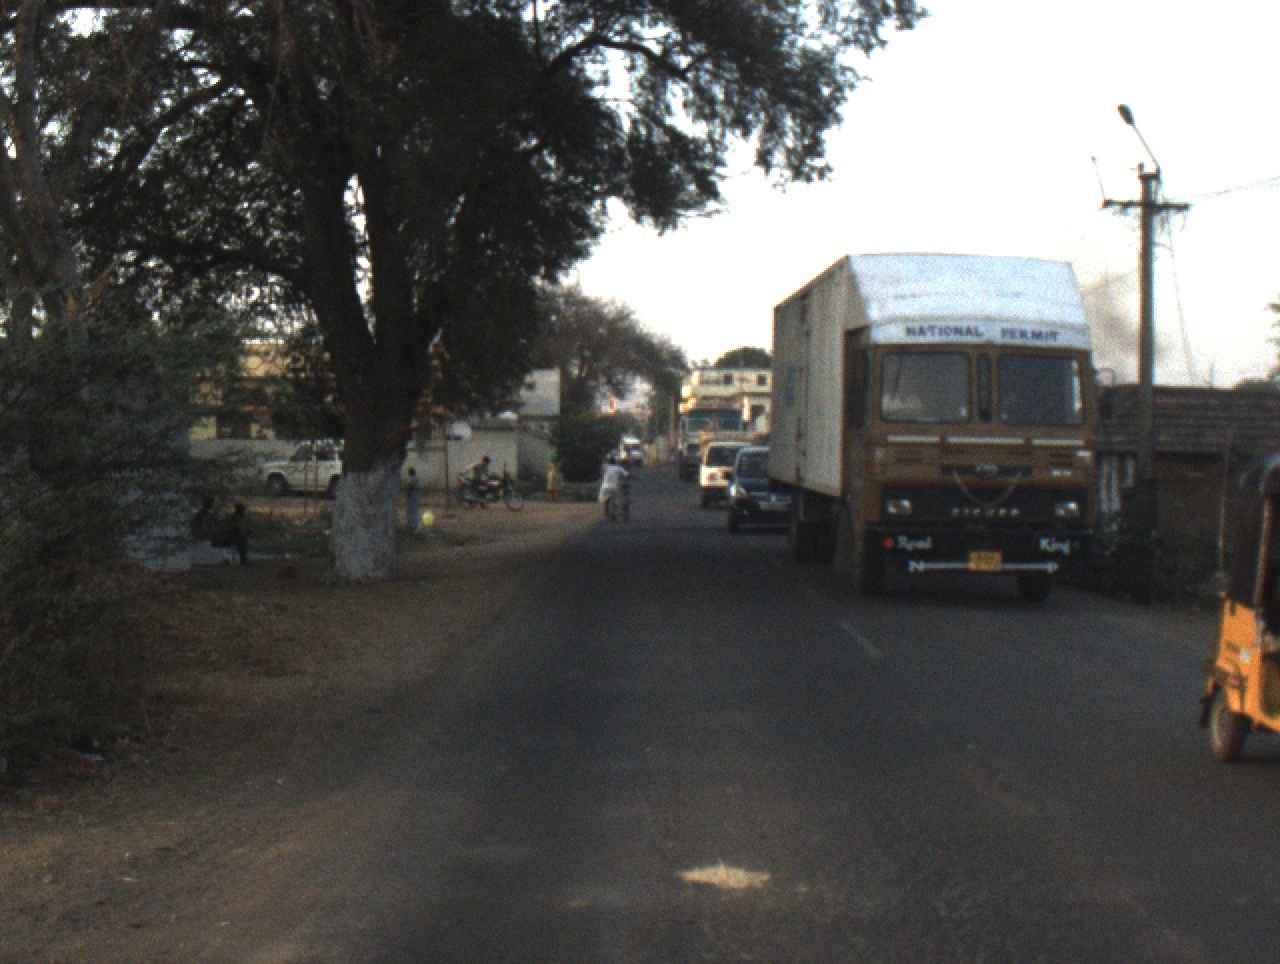autorickshaw: (1190, 447, 1275, 766)
bicycle: (616, 470, 632, 521)
car: (720, 448, 798, 536), (257, 433, 355, 500), (689, 436, 743, 513), (188, 491, 217, 540), (616, 439, 647, 471)
motorcycle: (454, 466, 525, 517)
person: (397, 463, 429, 541), (211, 497, 251, 558), (545, 443, 567, 506)
rider: (597, 454, 630, 528), (470, 454, 493, 507)
truck: (758, 254, 1110, 604), (672, 393, 742, 485)
